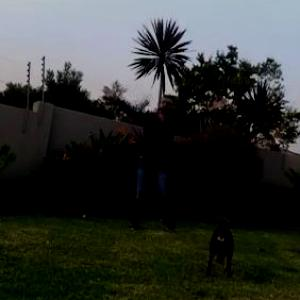takeoff: (119, 92, 235, 226)
